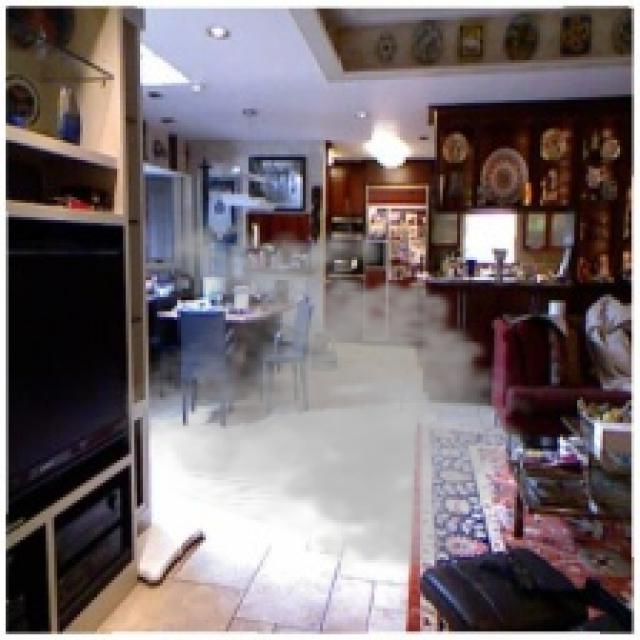smoke: (120, 209, 543, 577)
